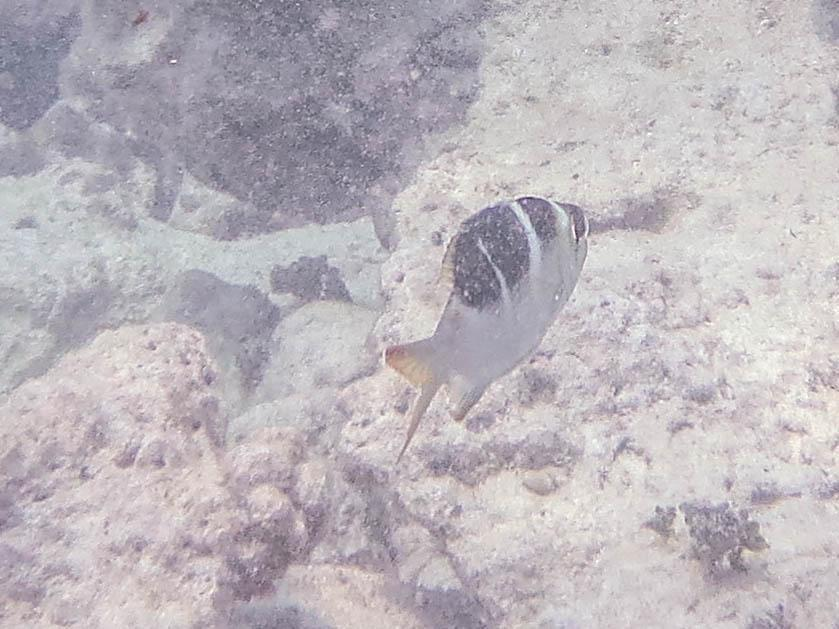Fish: (344, 192, 606, 476)
